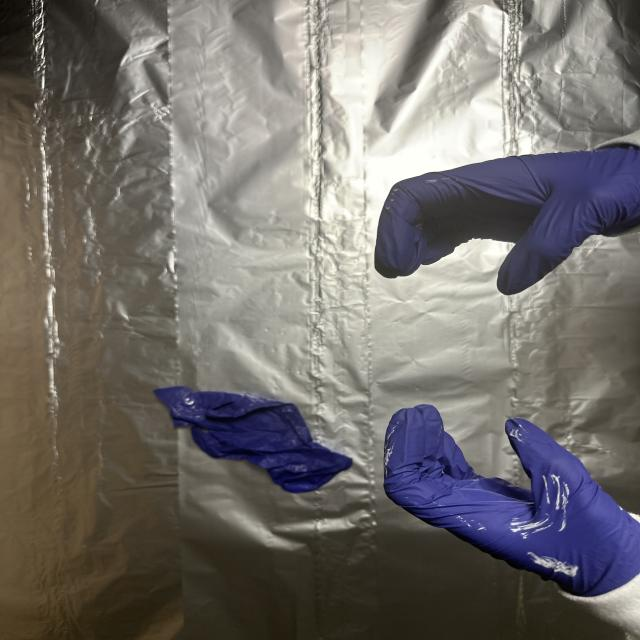gloves_contaminated: (384, 405, 640, 605), (375, 147, 640, 295)
